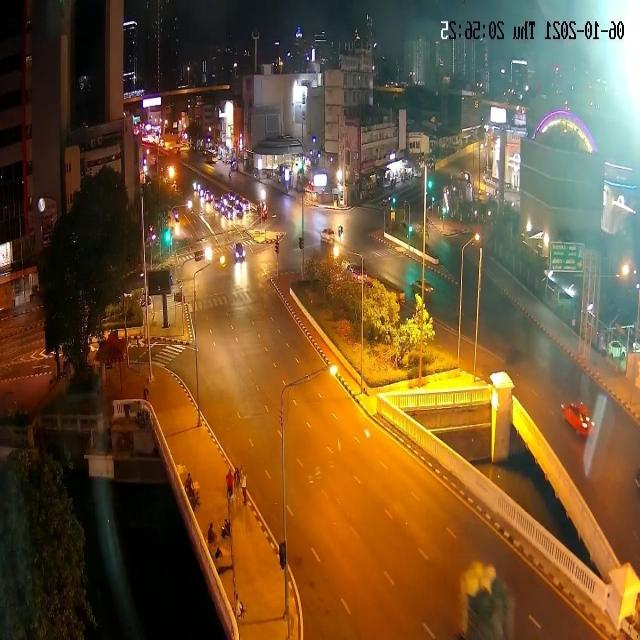Car: (192, 183, 252, 225), (559, 389, 599, 448), (388, 165, 420, 193), (464, 200, 493, 226), (347, 263, 374, 286), (620, 612, 639, 639), (357, 171, 378, 195), (409, 278, 434, 298), (503, 84, 528, 104), (184, 480, 200, 509), (441, 223, 468, 239), (608, 339, 626, 362), (160, 162, 178, 185), (342, 261, 361, 278), (390, 287, 407, 305), (484, 181, 498, 201), (233, 242, 246, 263), (321, 228, 336, 245), (398, 220, 416, 234), (279, 164, 293, 182), (220, 518, 231, 539), (140, 292, 154, 308), (412, 221, 426, 235), (137, 410, 147, 429), (482, 172, 496, 185), (423, 156, 436, 170), (402, 165, 414, 180), (375, 172, 386, 188), (460, 169, 472, 183), (140, 172, 152, 186), (598, 339, 608, 355), (204, 148, 217, 160), (203, 189, 214, 203), (150, 124, 161, 138), (174, 144, 185, 157), (146, 154, 157, 166), (635, 463, 640, 489), (178, 132, 188, 144), (133, 123, 143, 135), (194, 250, 204, 262), (172, 208, 180, 222), (424, 232, 432, 246), (197, 186, 206, 198), (426, 217, 434, 230), (633, 340, 640, 354), (413, 166, 421, 178), (224, 153, 232, 164), (220, 254, 227, 266), (333, 244, 339, 258), (230, 159, 237, 170), (186, 199, 193, 210), (195, 182, 201, 194), (159, 138, 165, 148), (480, 142, 486, 150), (381, 199, 387, 207), (193, 181, 197, 191), (145, 148, 150, 155)
